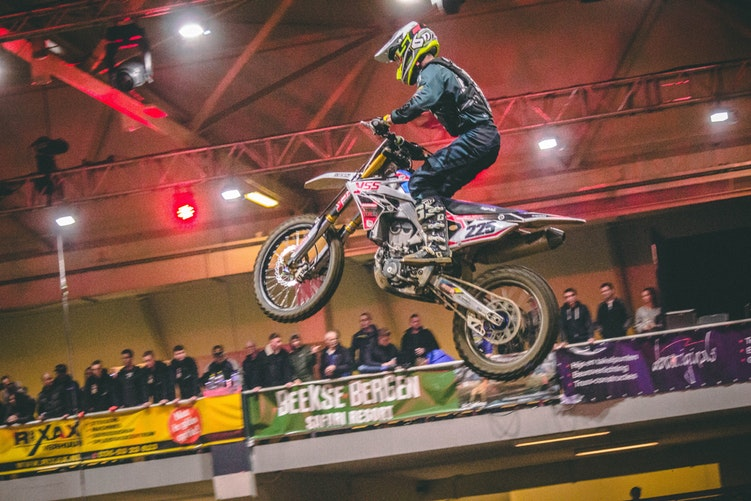helmet: (380, 19, 452, 81)
